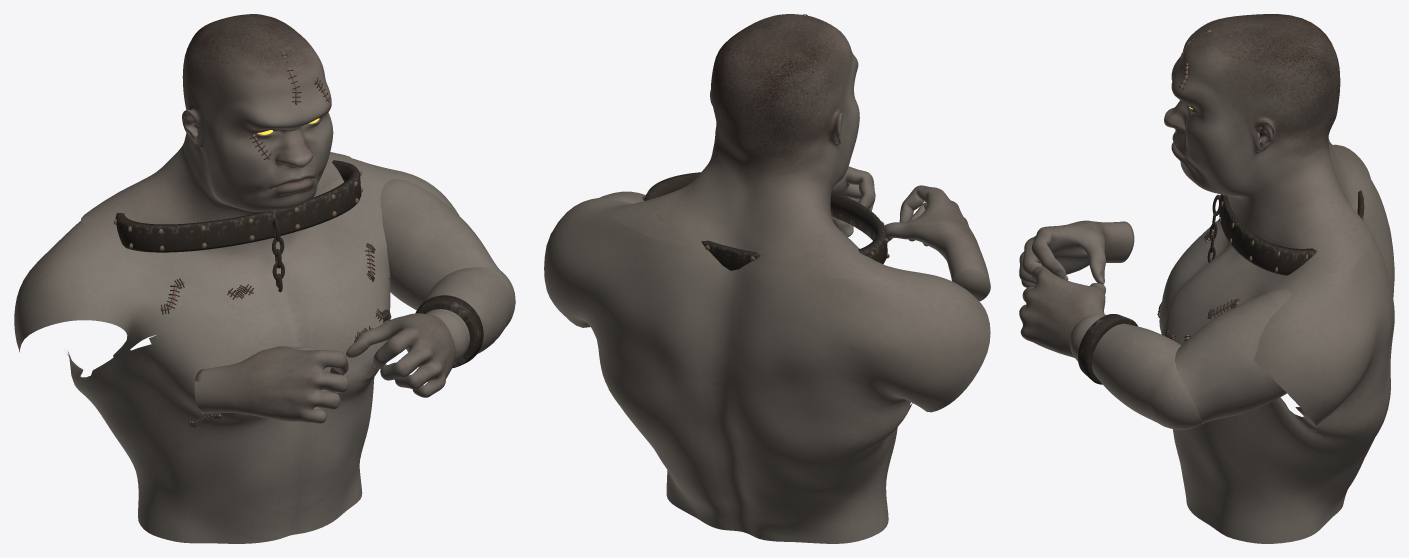
File: giant.glb
3 renders of one model, left to right at view 1: azimuth 30°, elevation 25°; view 2: azimuth 150°, elevation 25°; view 3: azimuth 270°, elevation 25°, orthographic.
Parts seen in each view (by area): view 1: Body, Face, Hand_L, SleeveUpper, Body_Collar, SleeveFore, Hand_R, Body_Stitches_Thread, Body_Chain; view 2: Body, Face, Hand_L, Body_Collar, Hand_R; view 3: Body, Face, SleeveUpper, SleeveFore, Hand_L, Hand_R, Body_Collar.
Boxes of the visible parts, x1=… form: Body: x1=14, y1=156, x2=459, y2=543; Face: x1=81, y1=14, x2=353, y2=225; Hand_L: x1=194, y1=346, x2=348, y2=423; SleeveUpper: x1=380, y1=179, x2=515, y2=310; Body_Collar: x1=115, y1=160, x2=361, y2=252; SleeveFore: x1=415, y1=267, x2=515, y2=368; Hand_R: x1=346, y1=313, x2=456, y2=397; Body_Stitches_Thread: x1=161, y1=243, x2=391, y2=427; Body_Chain: x1=272, y1=219, x2=284, y2=292; Body: x1=544, y1=197, x2=990, y2=543; Face: x1=610, y1=14, x2=879, y2=278; Hand_L: x1=884, y1=185, x2=990, y2=301; Body_Collar: x1=644, y1=172, x2=887, y2=270; Hand_R: x1=832, y1=166, x2=875, y2=236; Body: x1=1159, y1=175, x2=1394, y2=543; Face: x1=1164, y1=14, x2=1370, y2=273; SleeveUpper: x1=1158, y1=288, x2=1291, y2=429; SleeveFore: x1=1070, y1=313, x2=1201, y2=430; Hand_L: x1=1019, y1=220, x2=1134, y2=287; Hand_R: x1=1019, y1=266, x2=1105, y2=357; Body_Collar: x1=1219, y1=190, x2=1364, y2=275.
Bounding box in the file's own units: 1.37 × 1.43 × 1.04.
Materials: 7 (3 with a texture image).
